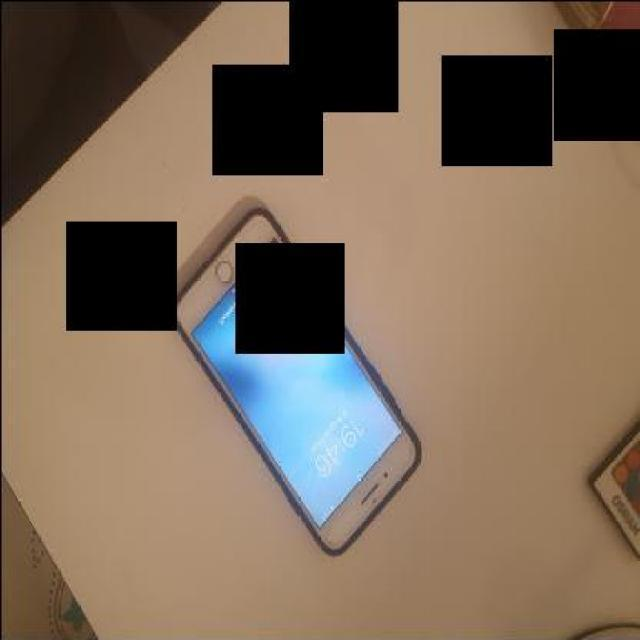phone: (173, 213, 422, 557)
